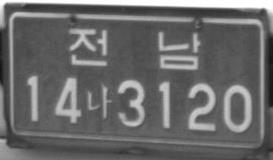0: (222, 83, 252, 133)
1: (152, 80, 178, 130), (22, 75, 47, 121)
2: (187, 81, 216, 132)
3: (117, 78, 146, 127)
4: (54, 76, 82, 125)
나: (86, 83, 112, 119)
전남_D: (68, 27, 200, 71)
